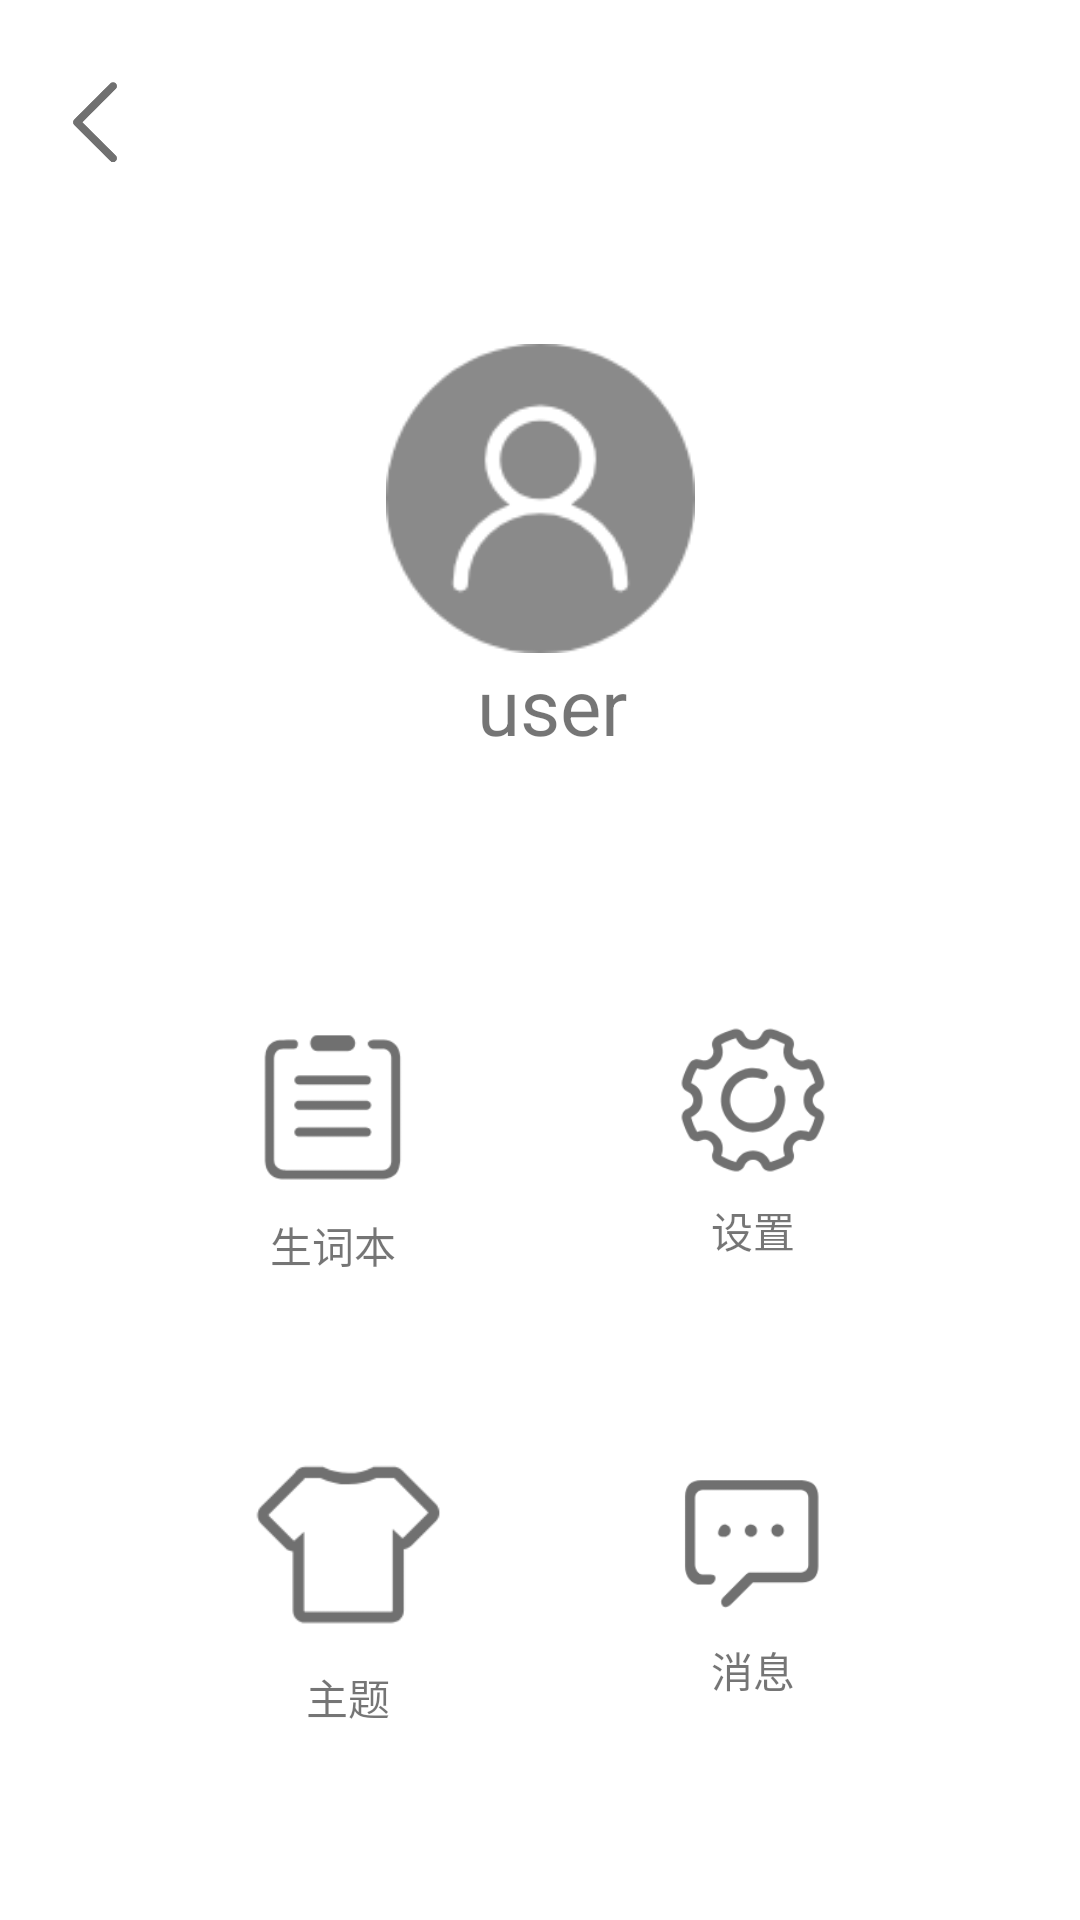

Screen size 1080×1920. Icon name, then its box in pixels as (x1,y1,x2,y2):
back: (73,82,117,162)
